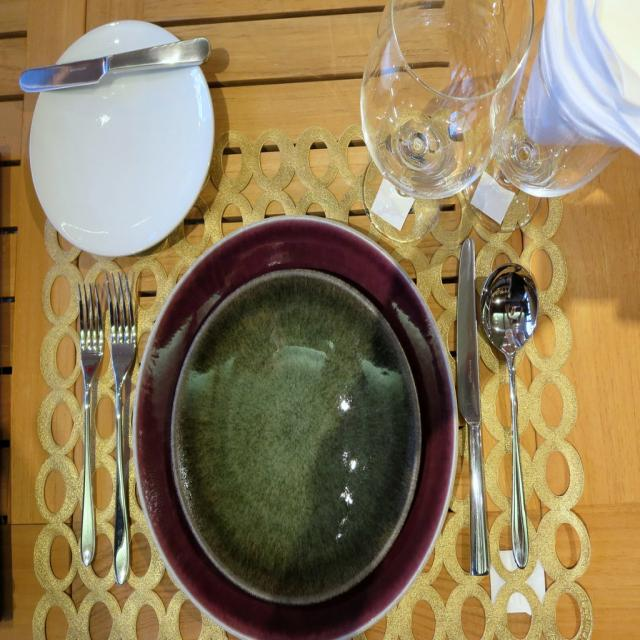non-organic waste: (18, 15, 228, 256)
